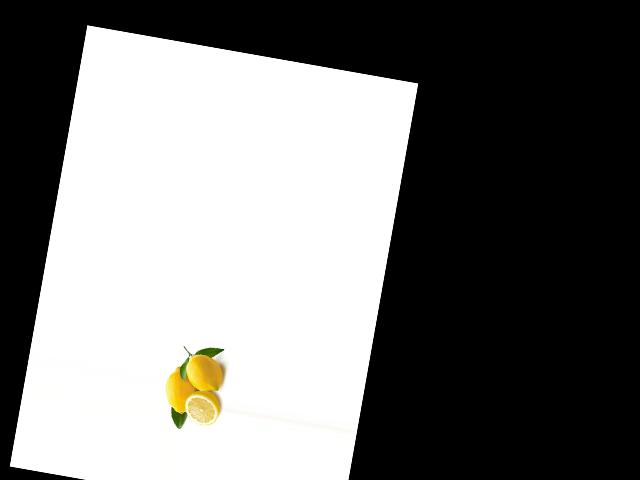lemon: (160, 362, 203, 414)
